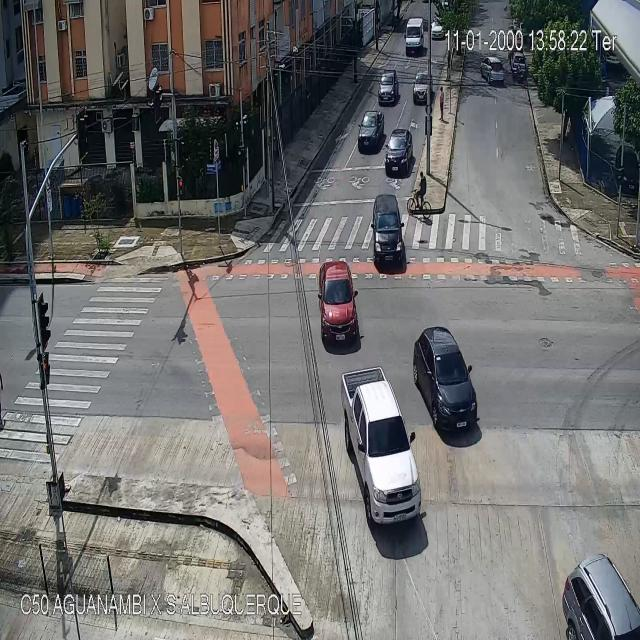Car: (341, 364, 421, 524), (414, 326, 480, 433), (562, 556, 640, 636), (320, 259, 358, 342), (372, 196, 406, 273), (385, 127, 414, 173), (357, 111, 384, 147), (404, 17, 425, 56), (378, 68, 400, 105), (480, 54, 504, 86), (413, 72, 432, 104), (511, 50, 525, 76), (430, 17, 442, 42)
Motorcycle: (515, 64, 523, 84)
